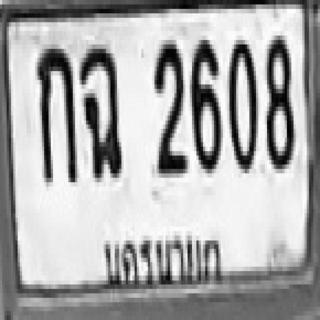A01: (35, 42, 75, 180)
A09: (79, 44, 119, 178)
N00: (227, 36, 256, 169)
N02: (153, 38, 184, 171)
N06: (191, 36, 220, 169)
N08: (265, 33, 291, 167)
P27: (98, 223, 227, 293)
